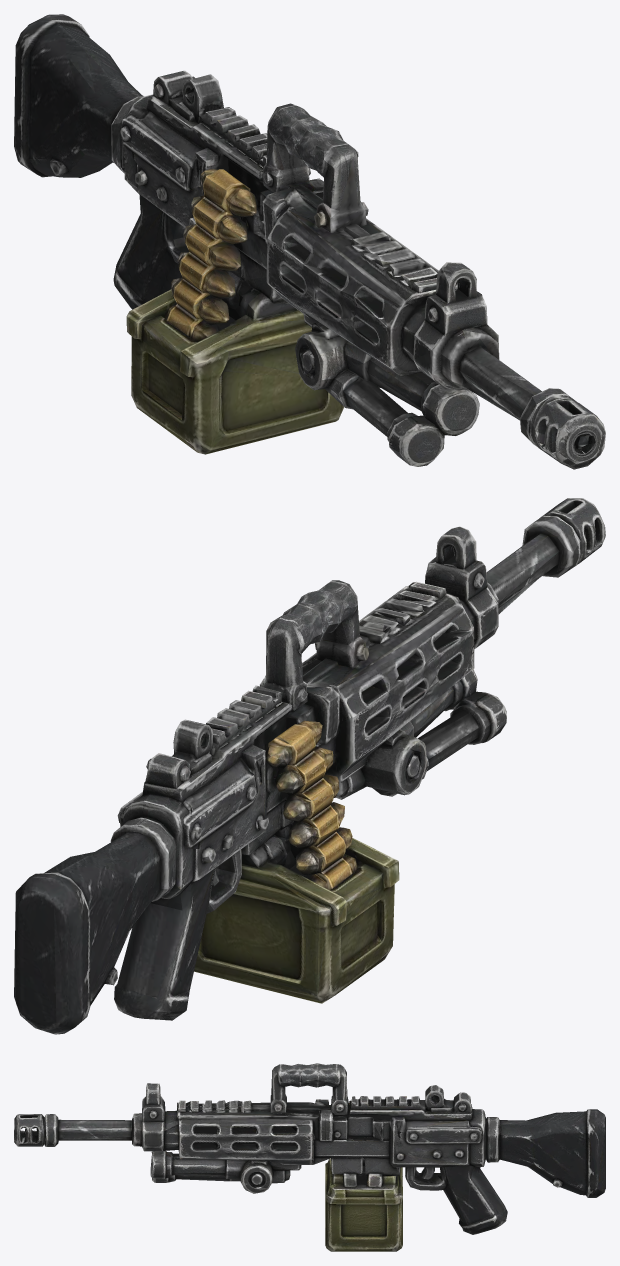
Rendered from gun_ratchet.glb.
The picture shows the model from 3 angles, top to bottom: view 1: azimuth 30°, elevation 25°; view 2: azimuth 150°, elevation 25°; view 3: azimuth 270°, elevation 25°; orthographic projection. The views are drawn at different scales.
Bounding box in the file's own units: 0.2939 × 0.5573 × 1.7.
Materials: 1 (1 with a texture image).
